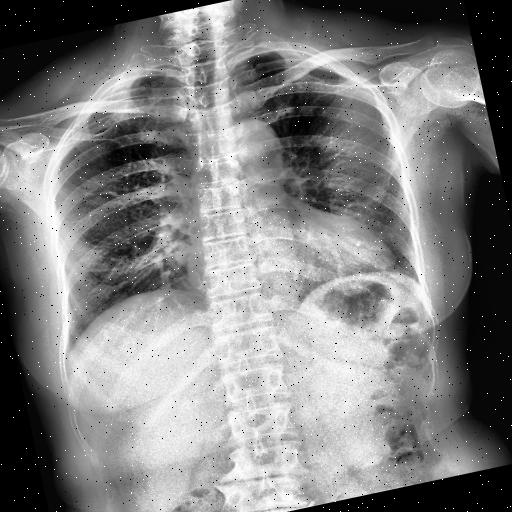0- Aortic enlargement: (220, 112, 286, 184), (220, 114, 284, 176), (221, 114, 280, 162)
11- Pleural thickening: (250, 34, 337, 88), (84, 76, 138, 114)
3- Cardiomegaly: (182, 210, 400, 322), (182, 204, 396, 312), (182, 210, 398, 312)
